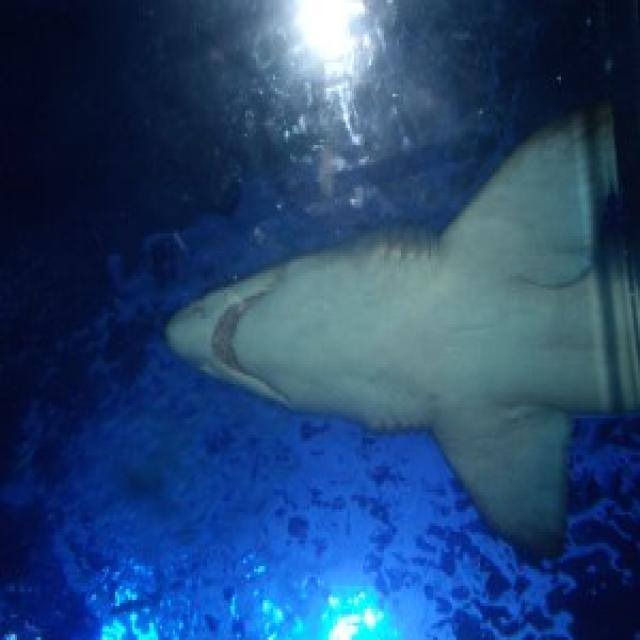Shark: (166, 108, 640, 546)
